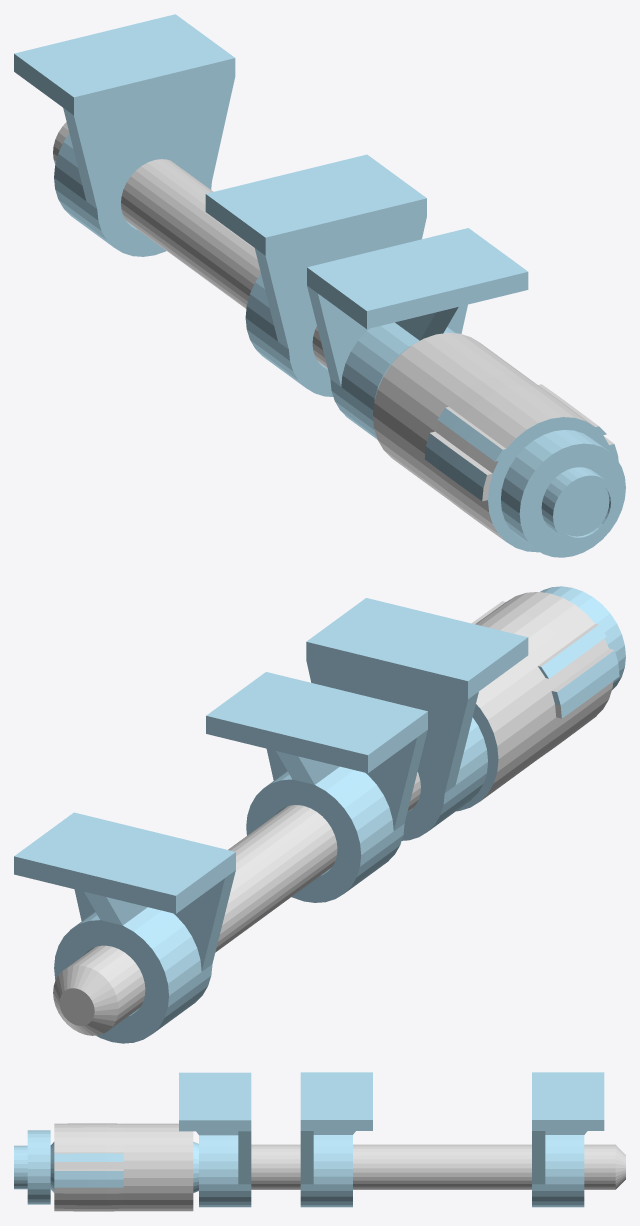
File: lockpin.dae
The picture shows the model from 3 angles, top to bottom: view 1: azimuth 30°, elevation 25°; view 2: azimuth 150°, elevation 25°; view 3: azimuth 270°, elevation 25°; orthographic projection. The views are drawn at different scales.
Visible parts, largest first — view 1: 圆环.002, 圆环.001; view 2: 圆环.002, 圆环.001; view 3: 圆环.002, 圆环.001.
Boxes of the visible parts, x1,y1,x2,y2 form: 圆环.002: [14, 14, 625, 557]; 圆环.001: [53, 122, 327, 368]; 圆环.002: [14, 586, 625, 1043]; 圆环.001: [53, 772, 420, 1035]; 圆环.002: [14, 1072, 604, 1211]; 圆环.001: [251, 1144, 625, 1189].
Size of the model in its own units: 0.424 by 2.29 by 0.459.
